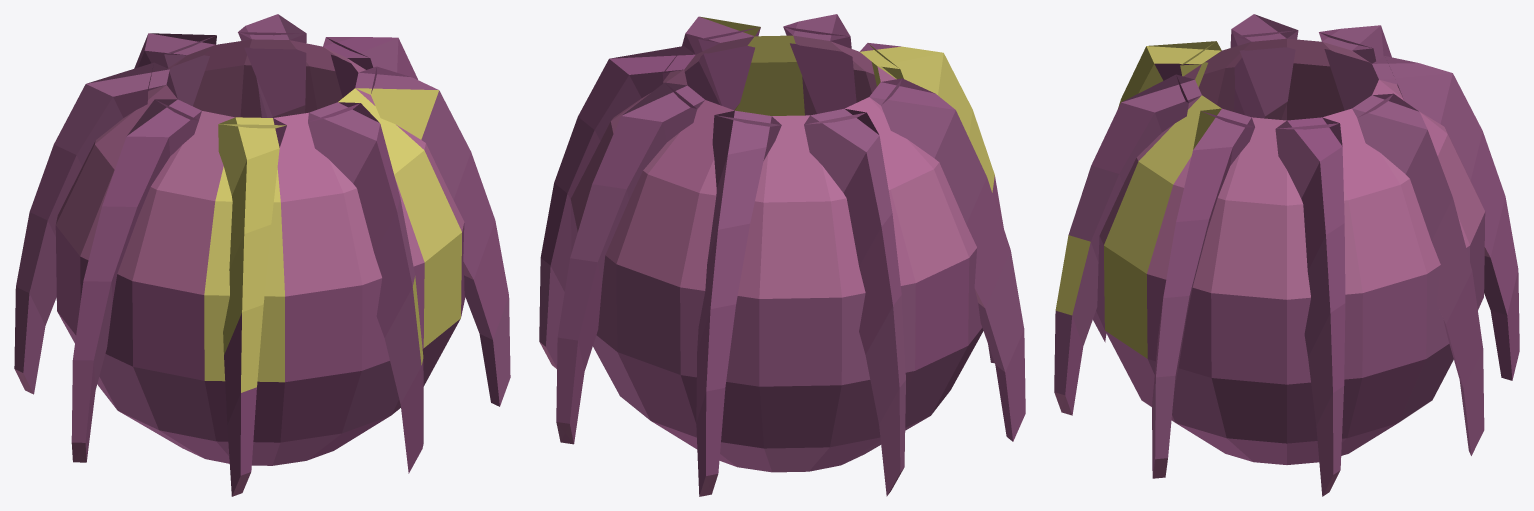
Rendered from Kraken.glb.
The picture shows the model from 3 angles, left to right: view 1: azimuth 30°, elevation 25°; view 2: azimuth 150°, elevation 25°; view 3: azimuth 270°, elevation 25°; orthographic projection. The views are drawn at different scales.
Parts seen in each view (by area): view 1: Kraken; view 2: Kraken; view 3: Kraken.
Boxes of the visible parts, box(x1,y1,x2,y2) form: Kraken: box(14, 14, 510, 496); Kraken: box(539, 14, 1025, 496); Kraken: box(1054, 14, 1519, 496).
Bounding box in the file's own units: 0.3675 × 0.3026 × 0.3492.
